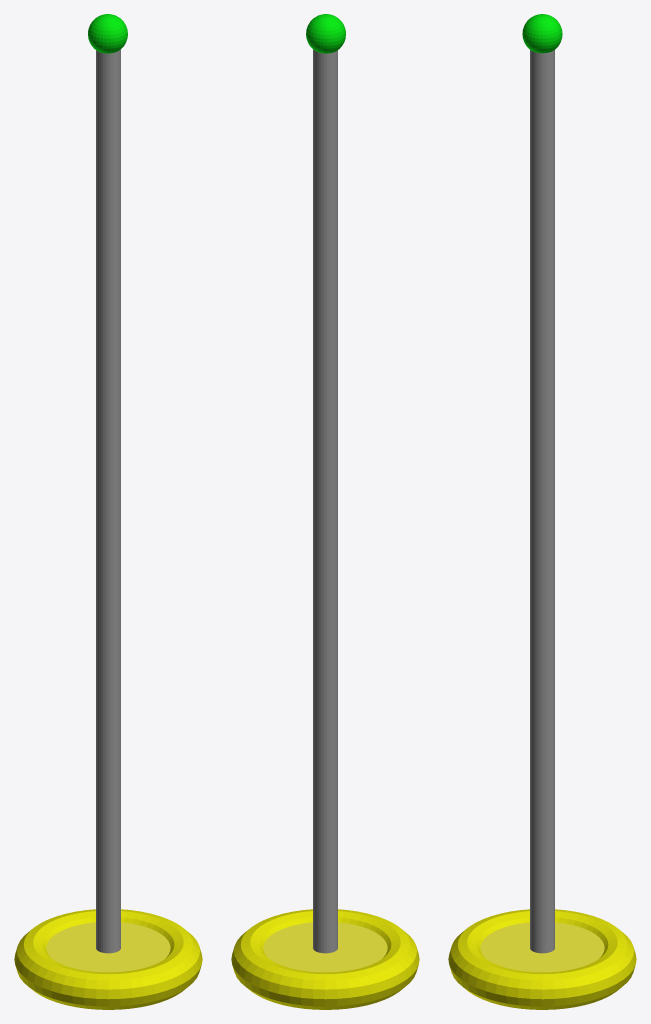
The model's file is Stage1FlagPL.fbx.
3 views of the same model, side by side, from view 1: azimuth 30°, elevation 25°; view 2: azimuth 150°, elevation 25°; view 3: azimuth 270°, elevation 25° (orthographic).
Visible parts, largest first — view 1: Cylinder, Torus, Cylinder.001, Sphere; view 2: Cylinder, Torus, Cylinder.001, Sphere; view 3: Cylinder, Torus, Cylinder.001, Sphere.
Boxes of the visible parts, x1,y1,x2,y2 form: Cylinder: (96, 49, 120, 953); Torus: (14, 909, 202, 1009); Cylinder.001: (46, 922, 170, 972); Sphere: (88, 14, 127, 53); Cylinder: (313, 49, 337, 953); Torus: (231, 909, 419, 1009); Cylinder.001: (263, 922, 387, 972); Sphere: (306, 14, 345, 53); Cylinder: (530, 50, 554, 953); Torus: (448, 909, 636, 1009); Cylinder.001: (480, 922, 604, 972); Sphere: (522, 14, 562, 53).
Size of the model in its own units: 75 by 422 by 75.
